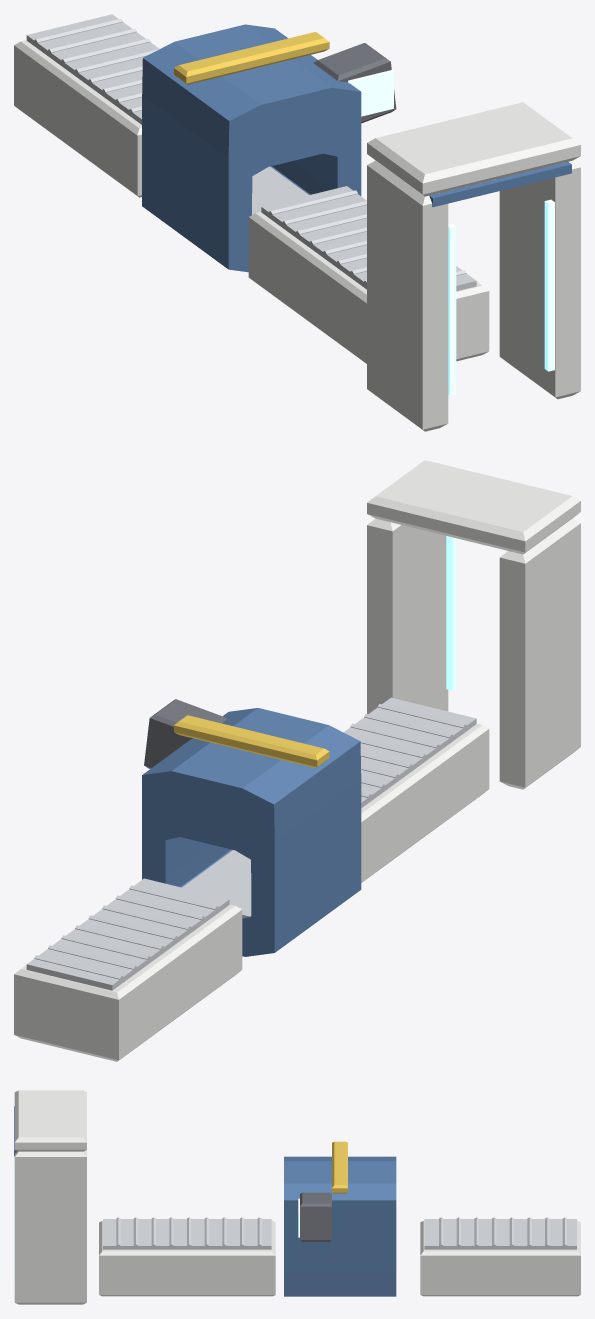
Rendered from airport-terminal-and-ground-operations-security-lane-cf25b289__26033.glb.
3 renders of one model, top to bottom at view 1: azimuth 30°, elevation 25°; view 2: azimuth 150°, elevation 25°; view 3: azimuth 270°, elevation 25°, orthographic. The views are drawn at different scales.
Visible parts, largest first — view 1: security-lane; view 2: security-lane; view 3: security-lane.
Part boxes in pixels (left/top/right/bottom): security-lane: left=14, top=14, right=580, bottom=431; security-lane: left=14, top=460, right=580, bottom=1061; security-lane: left=14, top=1090, right=580, bottom=1304.
Bounding box in the file's own units: 1.8 × 2.3 × 7.06.
